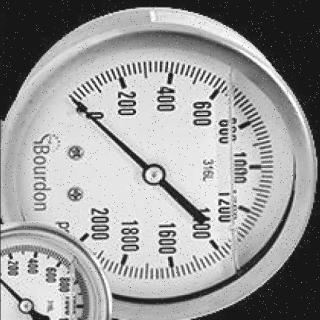gauge: (0, 0, 320, 314), (0, 222, 113, 320), (59, 90, 98, 127), (69, 219, 105, 251), (142, 164, 165, 186), (64, 90, 85, 110), (16, 298, 34, 314)
